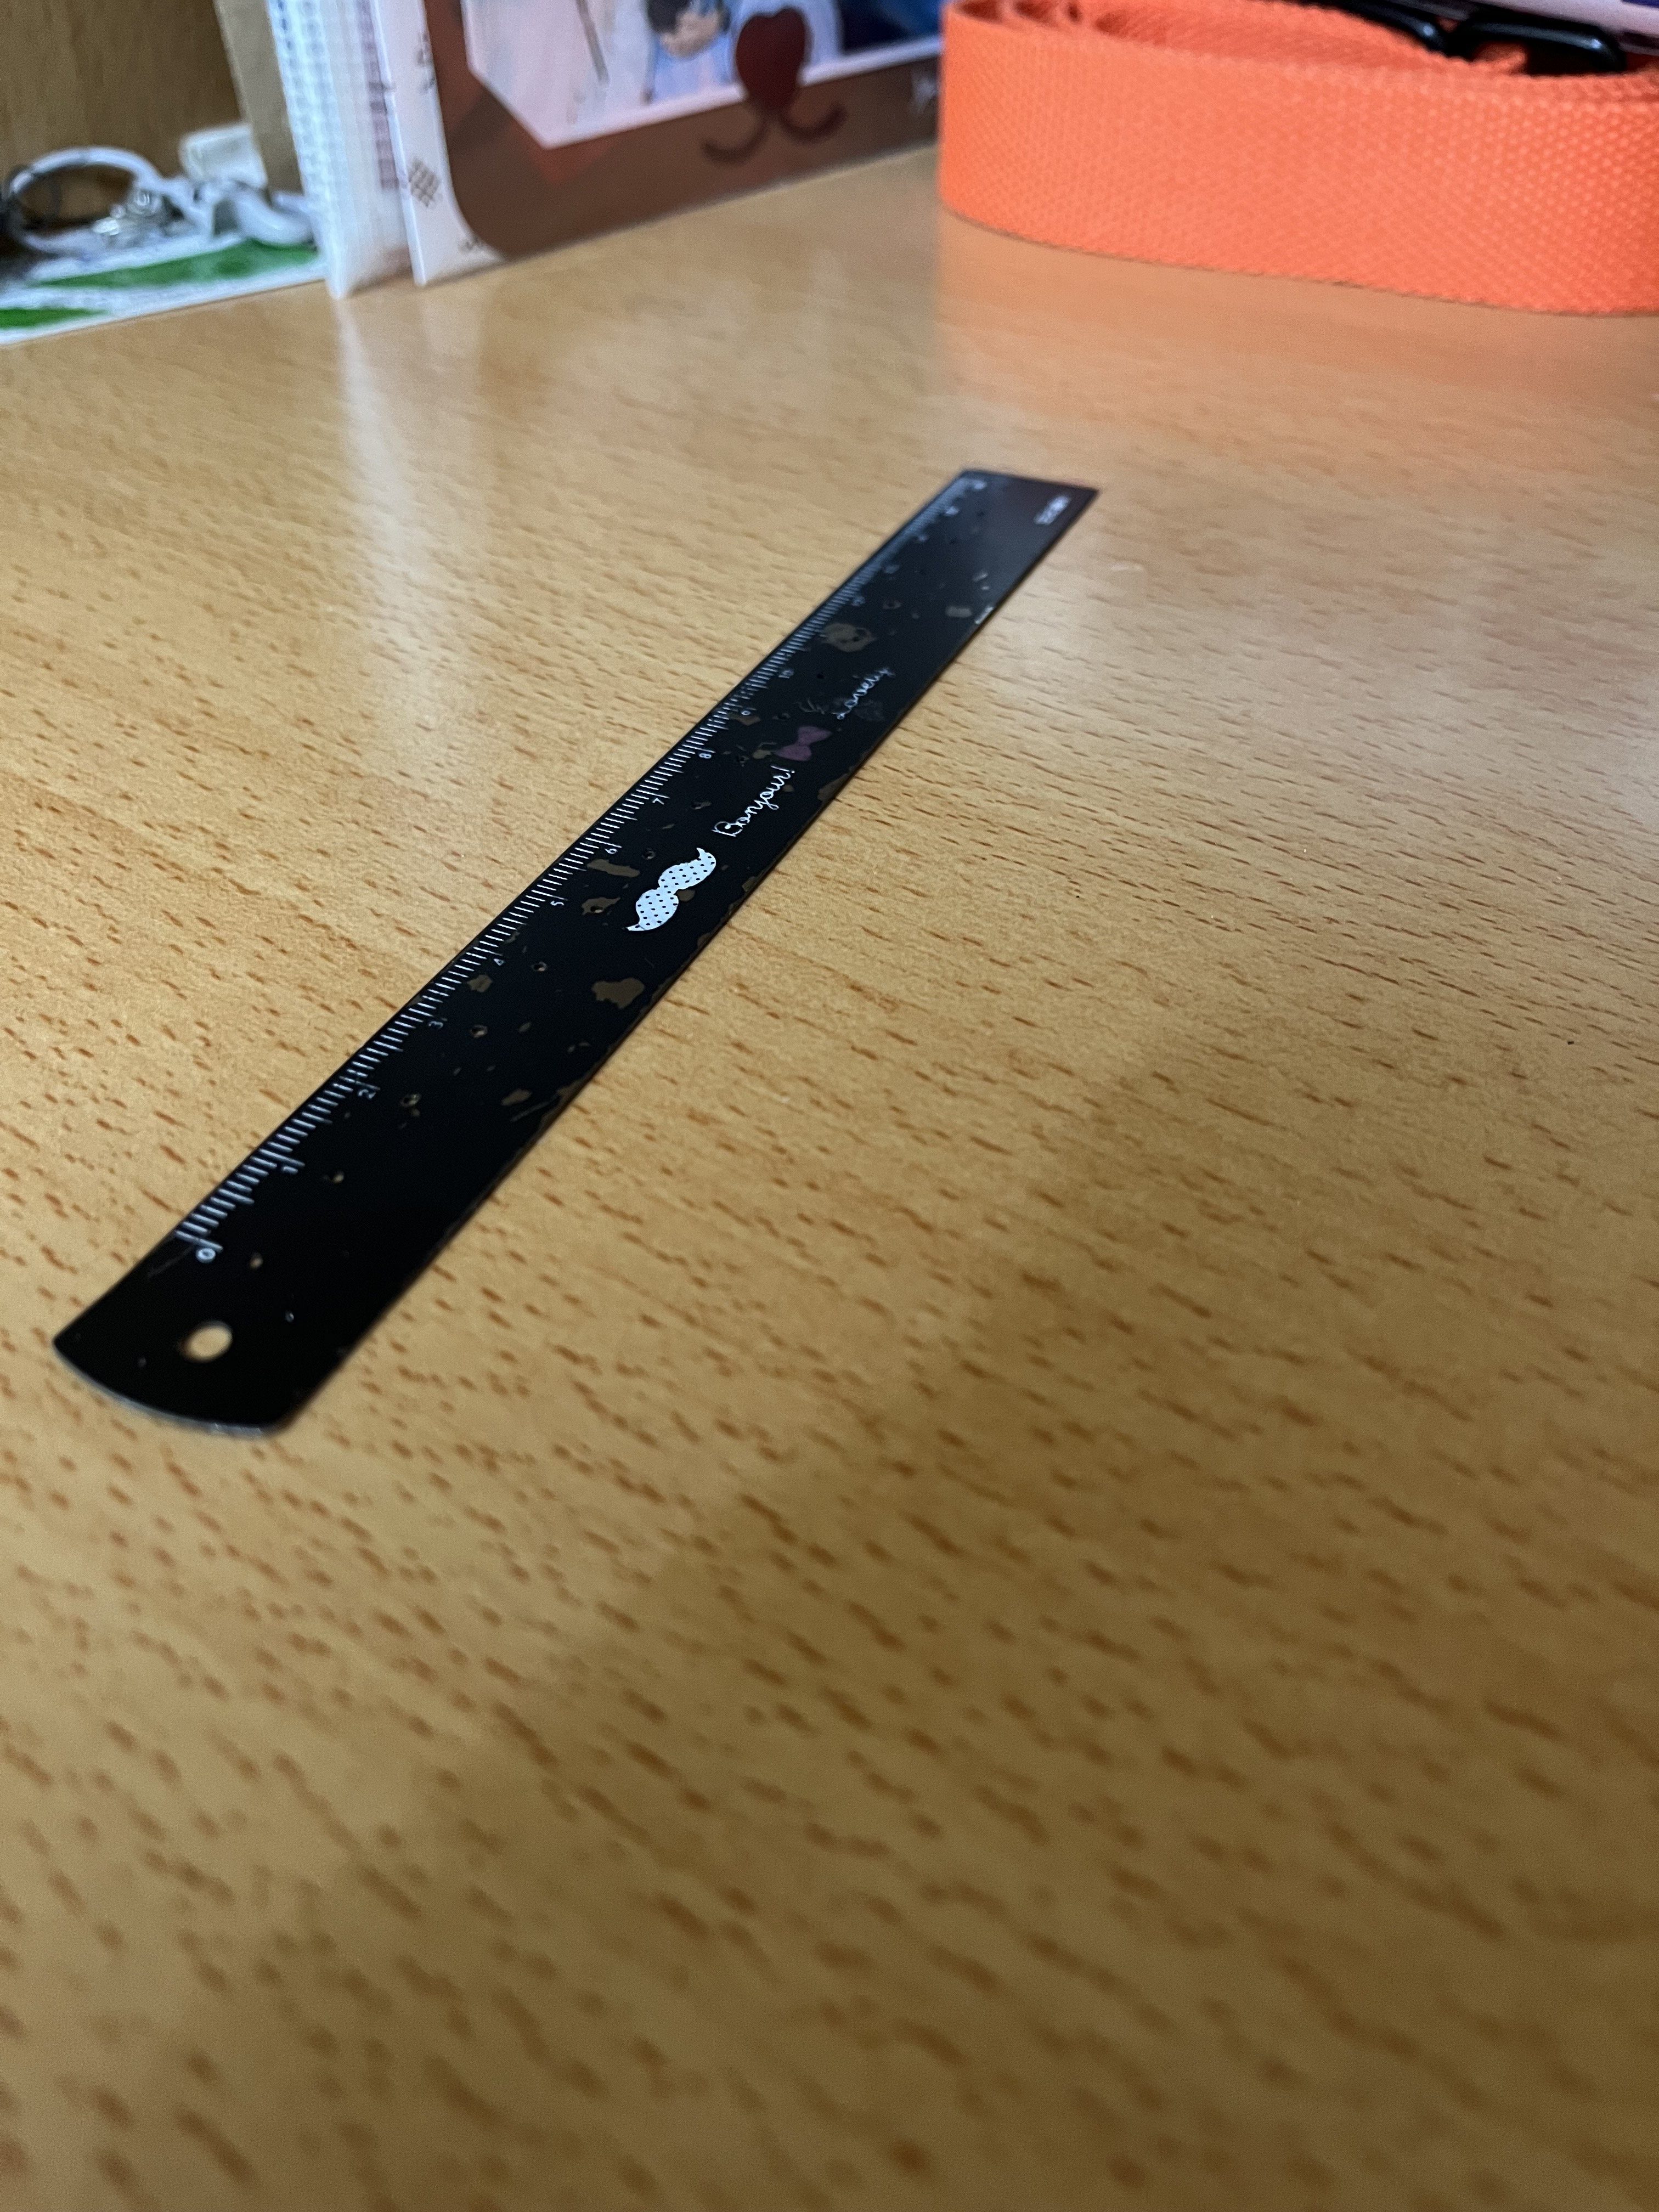ruler: (47, 435, 1138, 1470)
